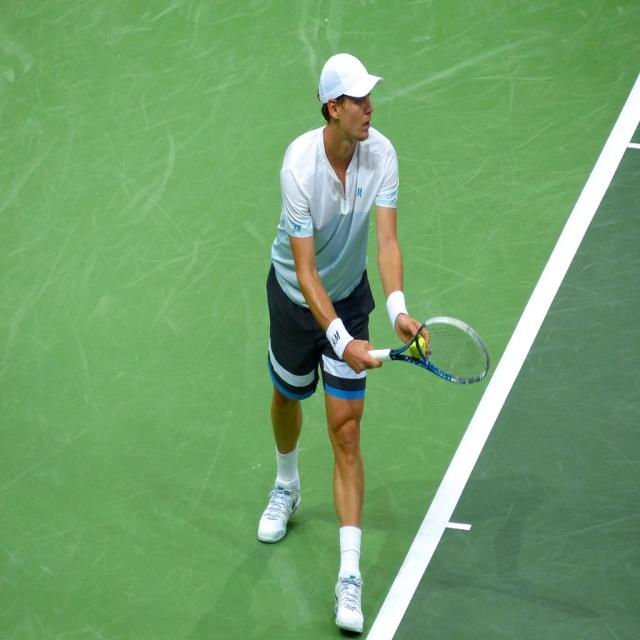Tennis ball: (410, 336, 428, 358)
